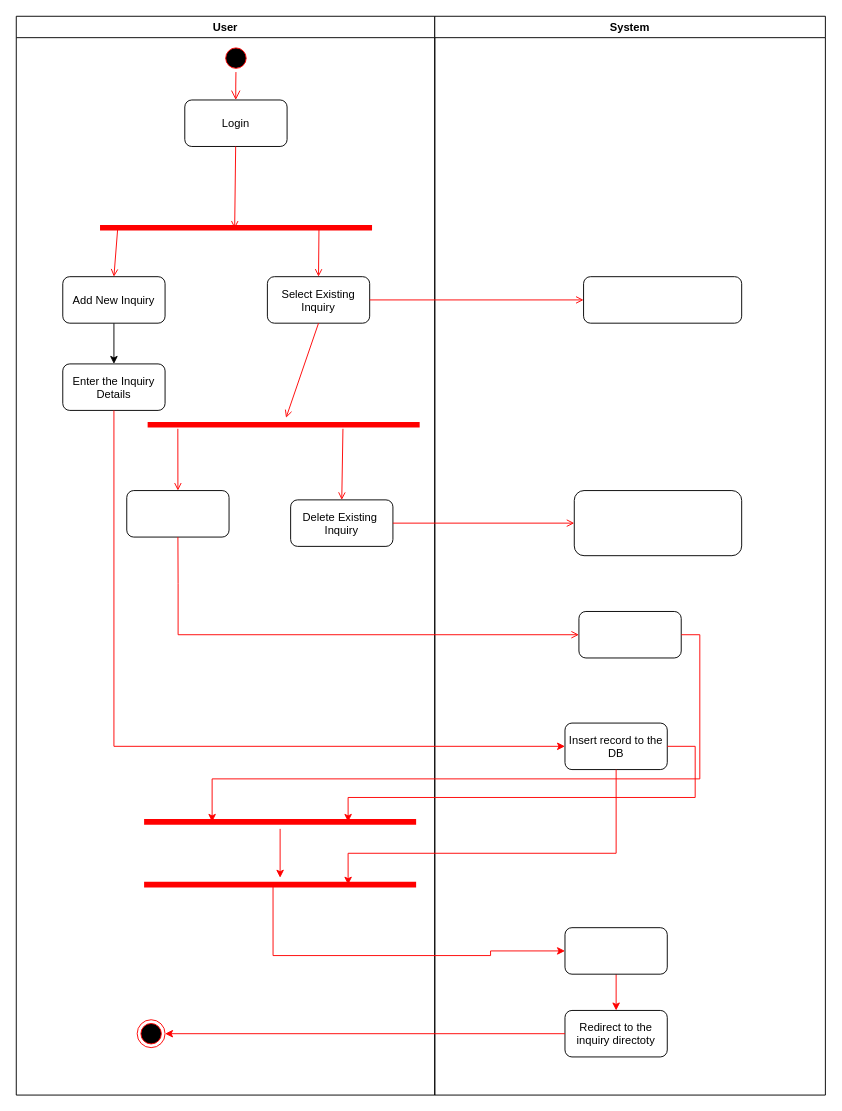
Image size: 842x1111. Some labels were removed from this diagram. Here are the shapes that lost their labels. From the top down, the centre of each, then its label:
At pixel 662 299: "Show the details of the selected Inquiry".
At pixel 177 513: "Update Existing Inquiry".
At pixel 657 523: "Remove the details Of the selected inquiry from the DB".
At pixel 629 634: "Update the selected inquiry in the DB".
At pixel 615 950: "Show success message".
